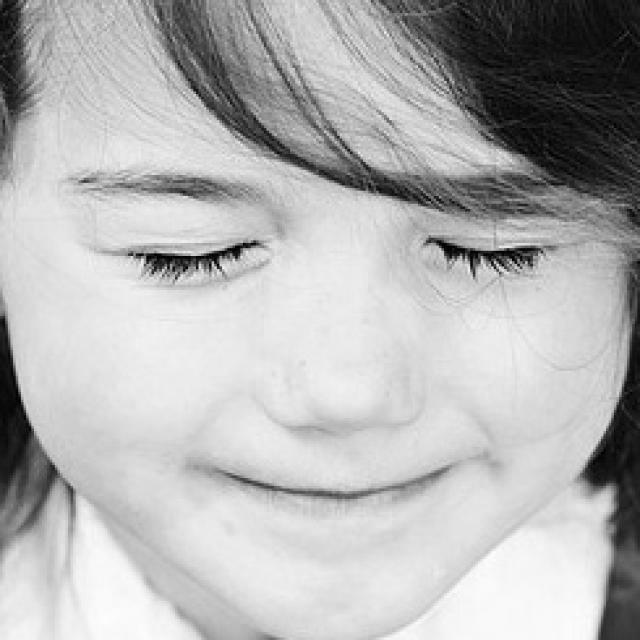real: (3, 0, 636, 634), (72, 146, 596, 312)
